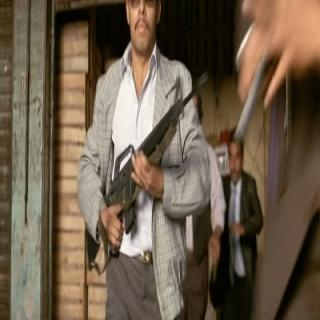gun: (76, 54, 216, 284)
